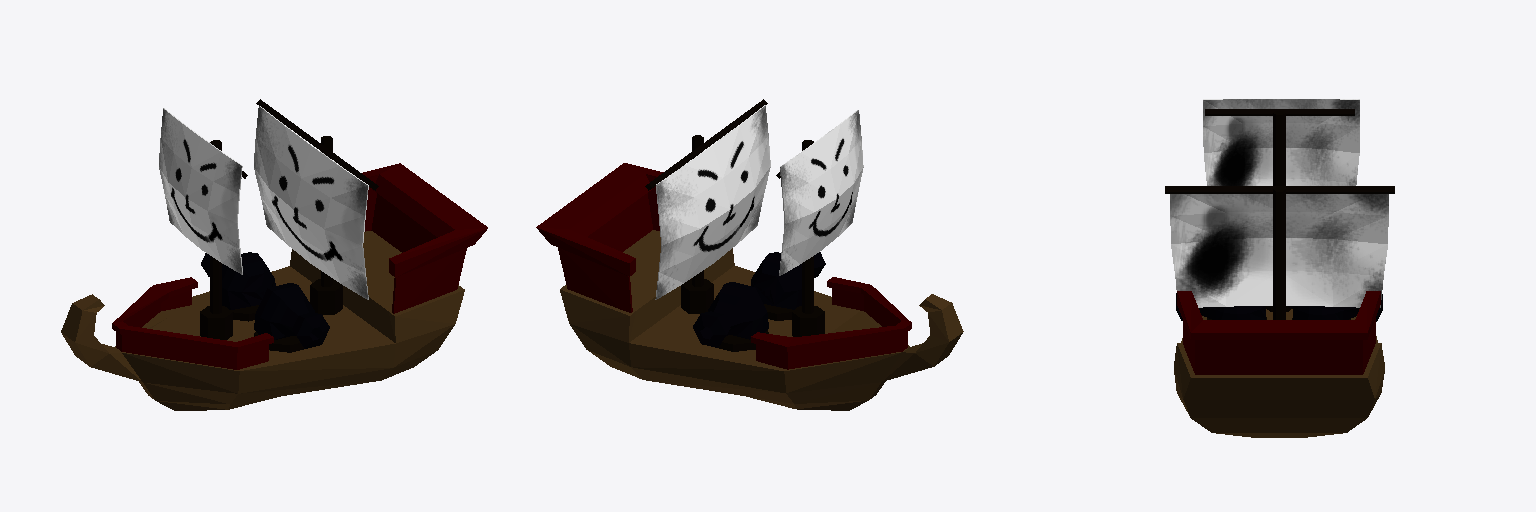
3 renders of one model, left to right at view 1: azimuth 30°, elevation 25°; view 2: azimuth 150°, elevation 25°; view 3: azimuth 270°, elevation 25°, orthographic.
Parts seen in each view (by area): view 1: Sphere, Sphere.001_Sphere.002, Plane.001, Plane, Cylinder, Cylinder.003_Cylinder.015, Cylinder.005, Cylinder.008, Cylinder.007; view 2: Sphere, Sphere.001_Sphere.002, Plane.001, Plane, Cylinder.003_Cylinder.015, Cylinder, Cylinder.005, Cylinder.008, Cylinder.007; view 3: Plane.001, Sphere, Plane, Sphere.001_Sphere.002, Cylinder.007, Cylinder.008, Cylinder.005, Cylinder.006, Cylinder.003_Cylinder.015, Cylinder.
Boxes of the visible parts, x1=… form: Sphere: x1=61, y1=231, x2=464, y2=410; Sphere.001_Sphere.002: x1=112, y1=163, x2=487, y2=369; Plane.001: x1=254, y1=106, x2=368, y2=299; Plane: x1=159, y1=108, x2=242, y2=274; Cylinder: x1=254, y1=283, x2=329, y2=348; Cylinder.003_Cylinder.015: x1=201, y1=252, x2=275, y2=309; Cylinder.005: x1=200, y1=140, x2=232, y2=339; Cylinder.008: x1=310, y1=136, x2=342, y2=314; Cylinder.007: x1=256, y1=99, x2=378, y2=190; Sphere: x1=560, y1=230, x2=963, y2=410; Sphere.001_Sphere.002: x1=536, y1=163, x2=911, y2=369; Plane.001: x1=655, y1=105, x2=770, y2=299; Plane: x1=779, y1=110, x2=863, y2=275; Cylinder.003_Cylinder.015: x1=693, y1=282, x2=768, y2=347; Cylinder: x1=751, y1=252, x2=825, y2=309; Cylinder.005: x1=792, y1=140, x2=824, y2=336; Cylinder.008: x1=681, y1=135, x2=713, y2=313; Cylinder.007: x1=645, y1=99, x2=767, y2=190; Plane.001: x1=1170, y1=194, x2=1388, y2=307; Sphere: x1=1174, y1=309, x2=1384, y2=437; Plane: x1=1203, y1=99, x2=1359, y2=185; Sphere.001_Sphere.002: x1=1177, y1=291, x2=1380, y2=374; Cylinder.007: x1=1165, y1=186, x2=1394, y2=193; Cylinder.008: x1=1273, y1=187, x2=1285, y2=319; Cylinder.005: x1=1266, y1=111, x2=1292, y2=311; Cylinder.006: x1=1205, y1=109, x2=1354, y2=115; Cylinder.003_Cylinder.015: x1=1288, y1=294, x2=1382, y2=321; Cylinder: x1=1176, y1=293, x2=1265, y2=320.
Size of the model in its own units: 5.93 by 3.95 by 3.14.
5 materials, 1 textured.